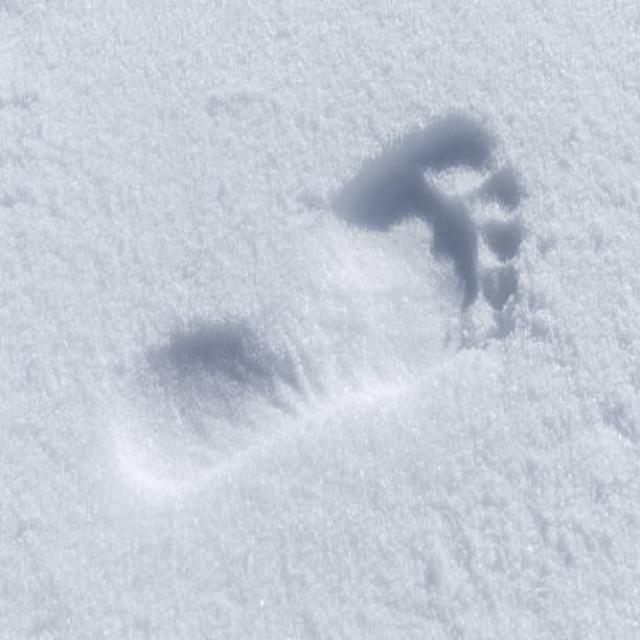human_foot_print: (102, 49, 614, 586), (318, 105, 537, 352)
